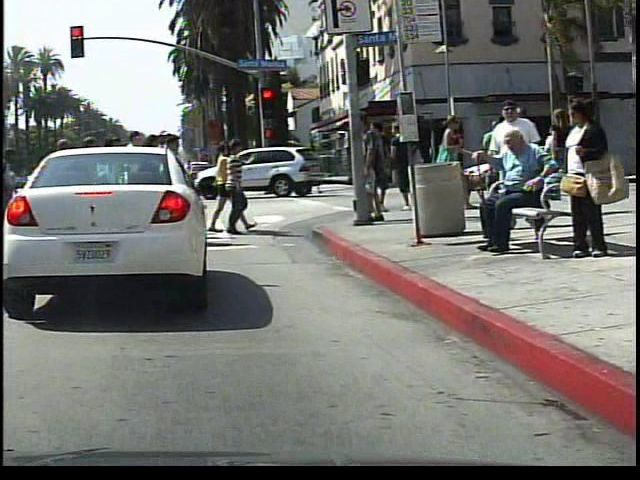person: (464, 125, 558, 256), (545, 92, 607, 269), (423, 108, 469, 213), (294, 145, 319, 196)
